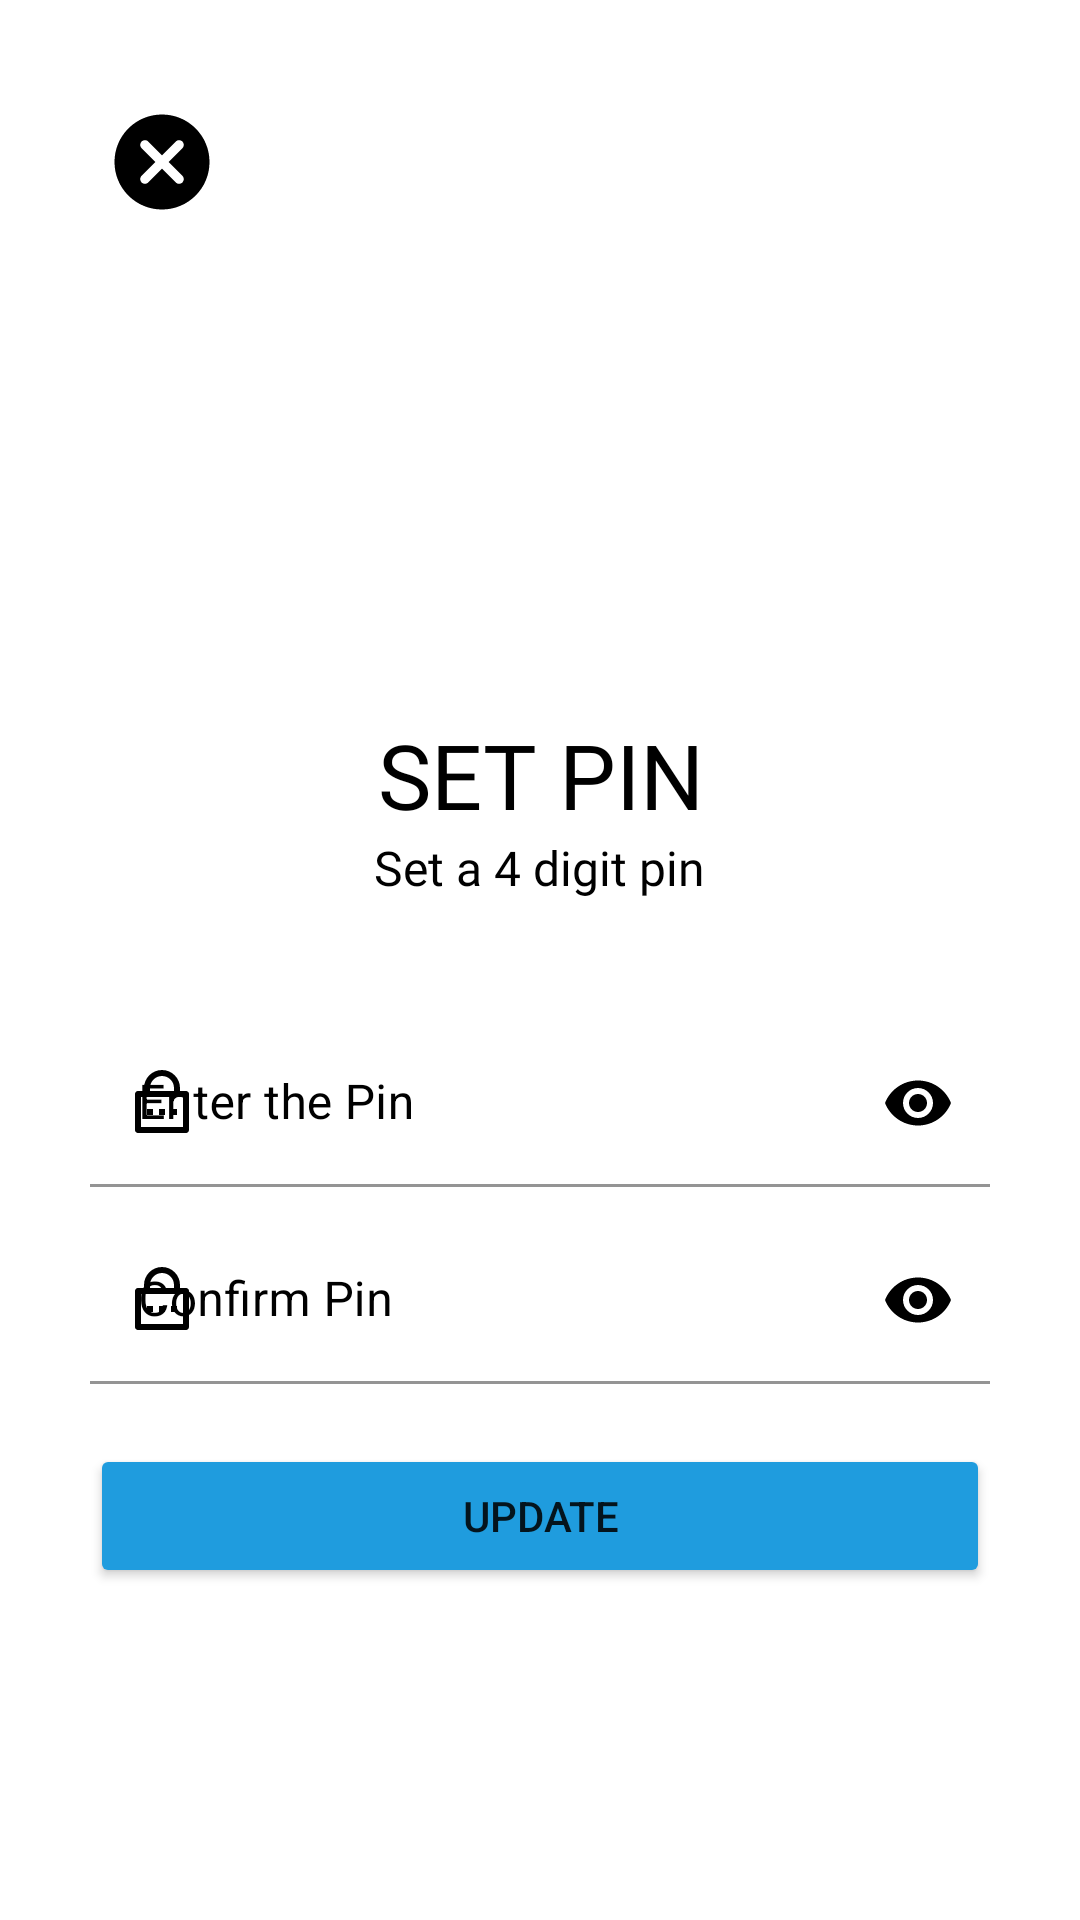

Where to tap for icons on this 1080px x 1920px app screen, as (x=x, y=y):
close: (x=162, y=162)
